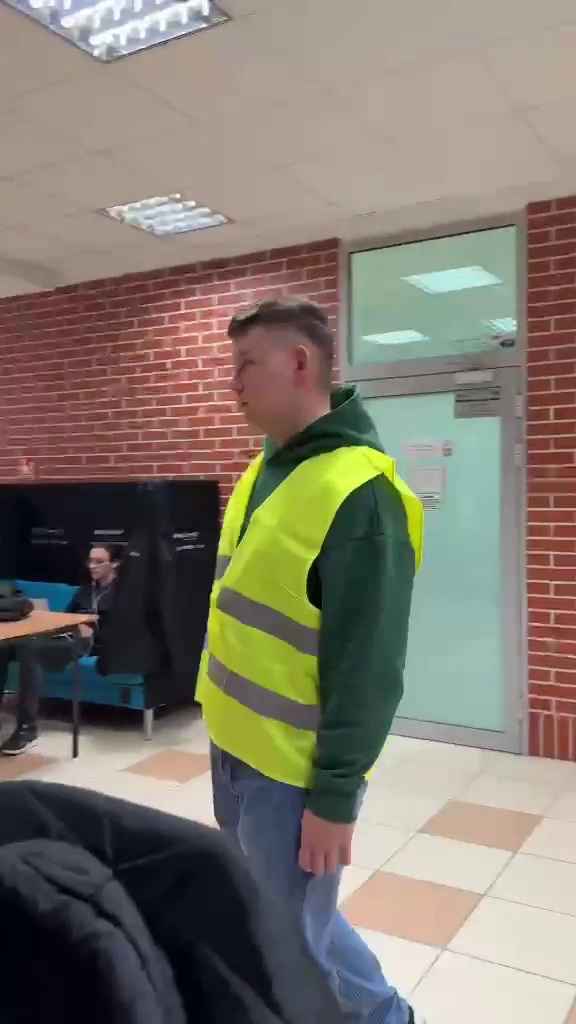no vest: (10, 532, 148, 741)
vest: (189, 276, 428, 1016)
